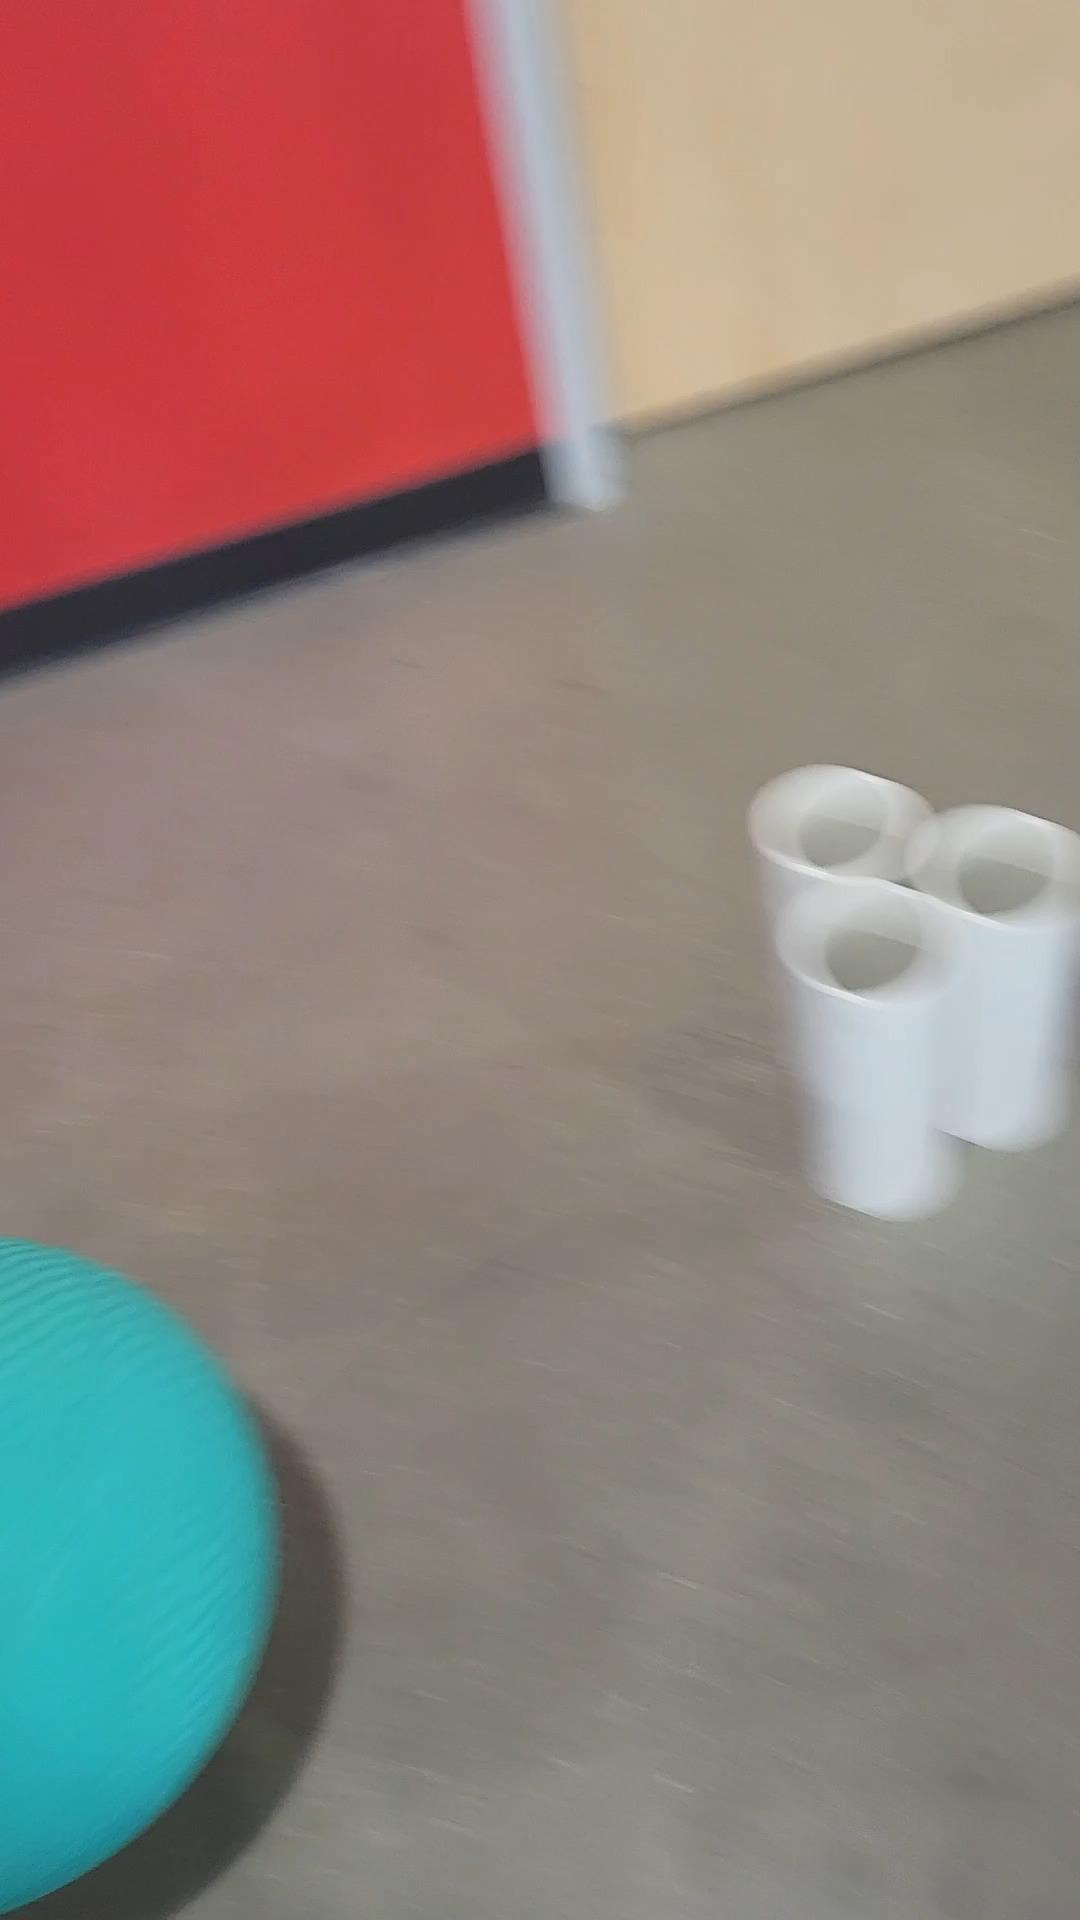algae: (11, 1236, 274, 1920)
coral: (906, 804, 1076, 1146), (781, 886, 951, 1225), (757, 766, 918, 901)
